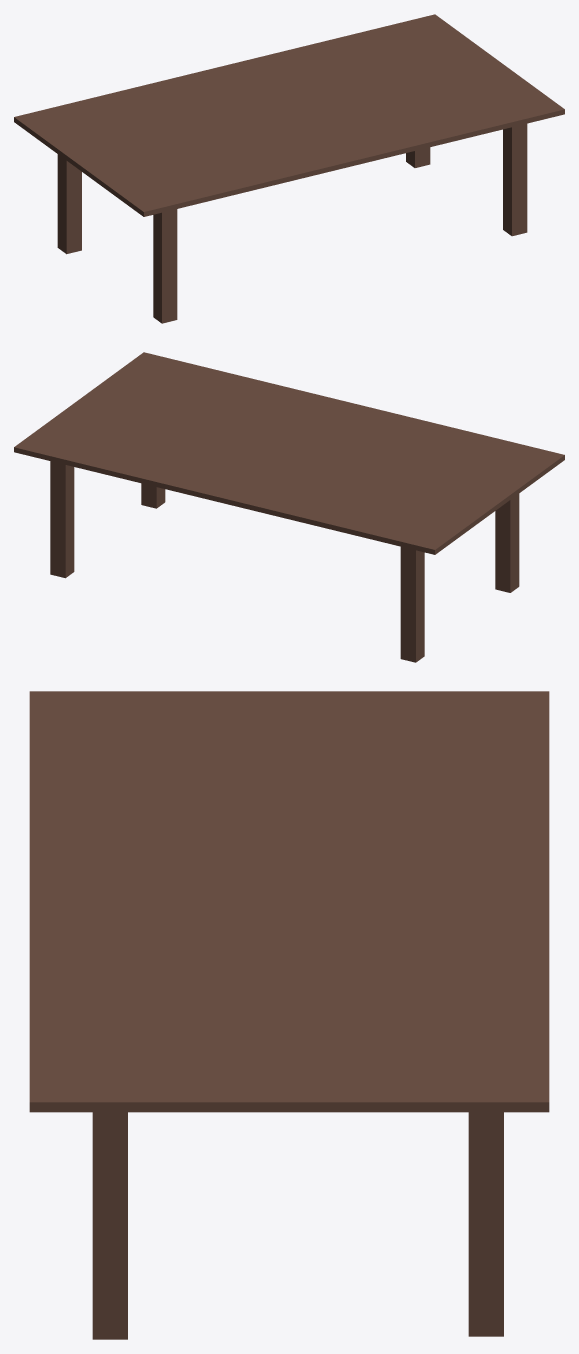
The model's file is SM_LowTable_TamaraskWood.glb.
The picture shows the model from 3 angles, top to bottom: view 1: azimuth 30°, elevation 25°; view 2: azimuth 150°, elevation 25°; view 3: azimuth 270°, elevation 25°; orthographic projection. The views are drawn at different scales.
Parts seen in each view (by area): view 1: SM_LowTable; view 2: SM_LowTable; view 3: SM_LowTable.
Part boxes in pixels (left/top/right/bottom): SM_LowTable: left=14, top=14, right=564, bottom=323; SM_LowTable: left=14, top=352, right=564, bottom=662; SM_LowTable: left=29, top=691, right=549, bottom=1339.
Bounding box in the file's own units: 1.61 × 0.4732 × 0.8606.
